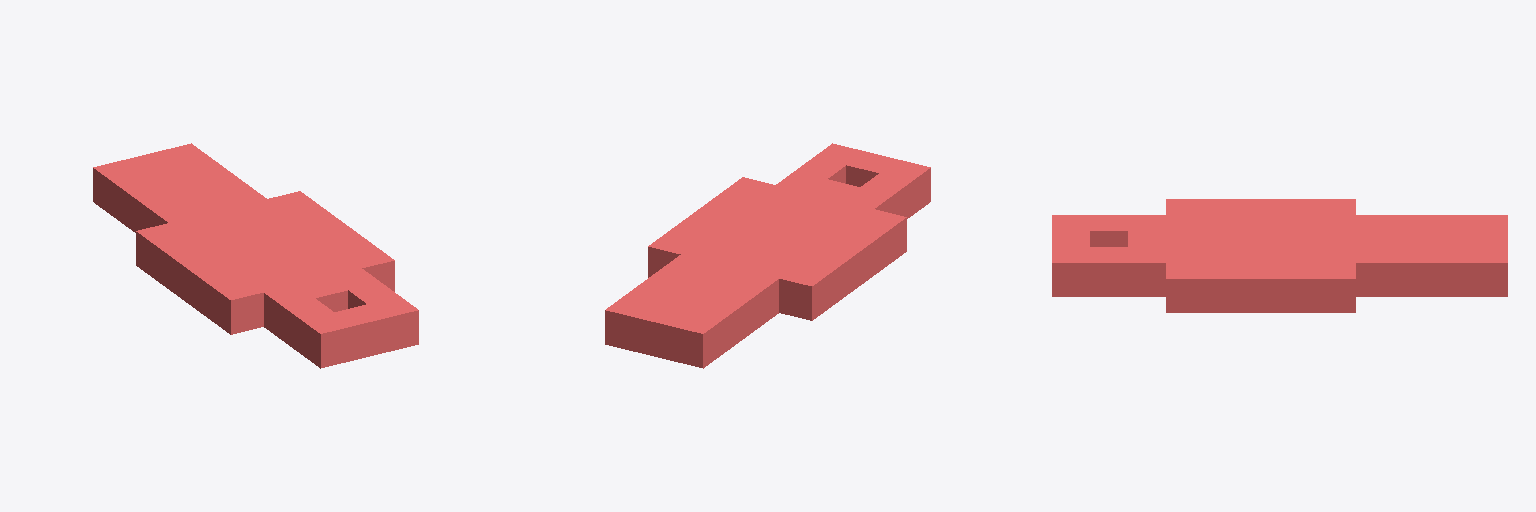
File: Ground.obj
The picture shows the model from 3 angles: view 1: azimuth 30°, elevation 25°; view 2: azimuth 150°, elevation 25°; view 3: azimuth 270°, elevation 25°; orthographic projection.
Visible parts, largest first — view 1: Ground; view 2: Ground; view 3: Ground.
Part boxes in pixels (x1,y1,x2,y2): Ground: (93, 143, 418, 368); Ground: (605, 143, 930, 368); Ground: (1052, 199, 1507, 312).
Size of the model in its own units: 20 by 4 by 48.